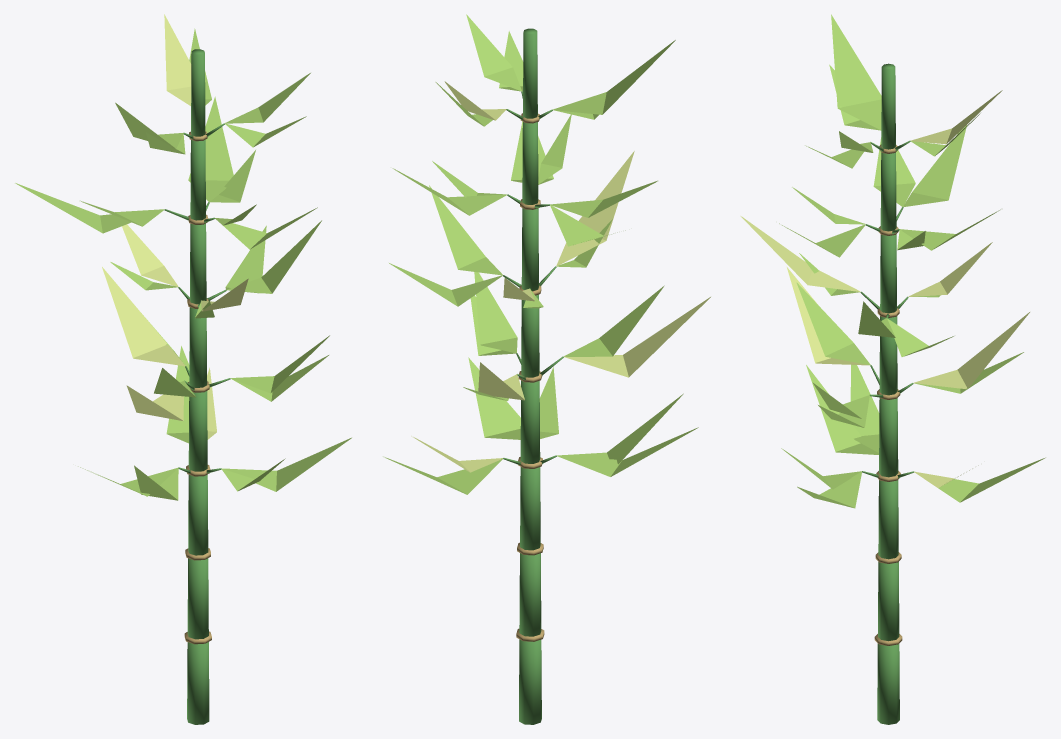
Rendered from bamboo_culm_mid.glb.
3 views of the same model, side by side, from view 1: azimuth 30°, elevation 25°; view 2: azimuth 150°, elevation 25°; view 3: azimuth 270°, elevation 25° (orthographic). The views are drawn at different scales.
Visible parts, largest first — view 1: bamboo_culm_mid; view 2: bamboo_culm_mid; view 3: bamboo_culm_mid.
Part boxes in pixels (<box>): bamboo_culm_mid: <box>15,14,351,724</box>; bamboo_culm_mid: <box>383,14,710,724</box>; bamboo_culm_mid: <box>740,14,1045,724</box>.
Bounding box in the file's own units: 2.17 × 5.4 × 2.29.
